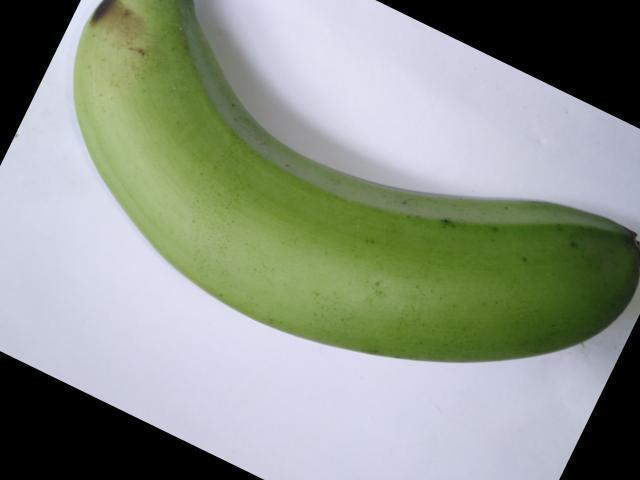freshunripe: (54, 0, 639, 367)
